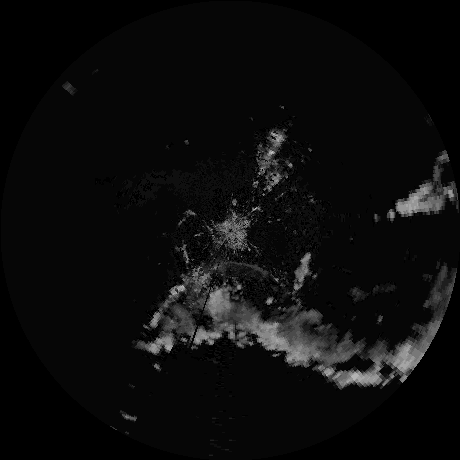frontgust: (207, 259, 274, 283)
